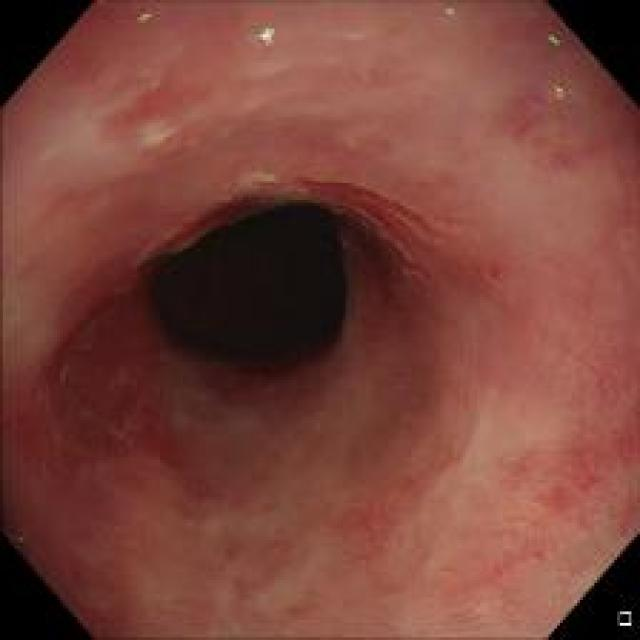color misalignment: (250, 21, 290, 56), (540, 78, 581, 106), (439, 1, 468, 26), (128, 6, 159, 25), (544, 28, 570, 48)
contrast: (136, 189, 378, 374)
